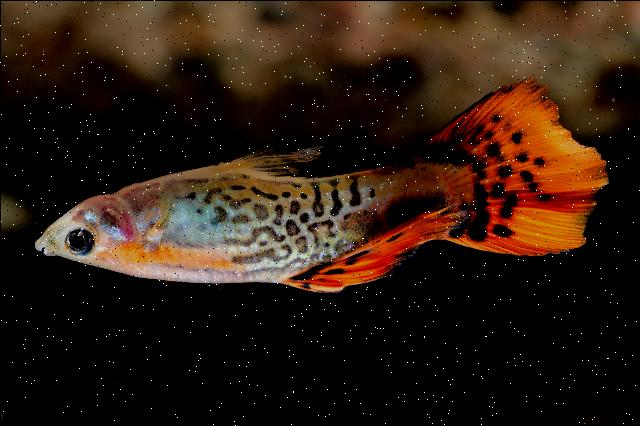Mulut: (18, 216, 92, 273)
Sirip Anal: (234, 131, 350, 191)
Sirip Ekor: (422, 74, 624, 270)
Sirip Punggung: (270, 190, 476, 316)
